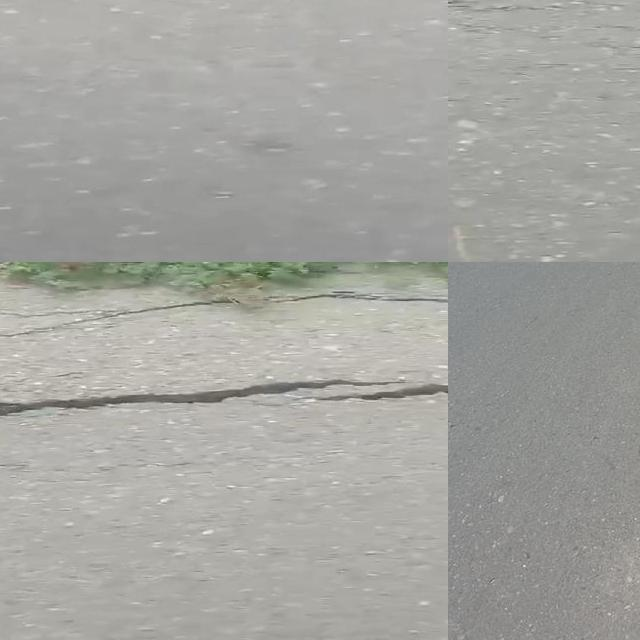Melintang: (0, 362, 448, 426), (448, 0, 496, 28)
